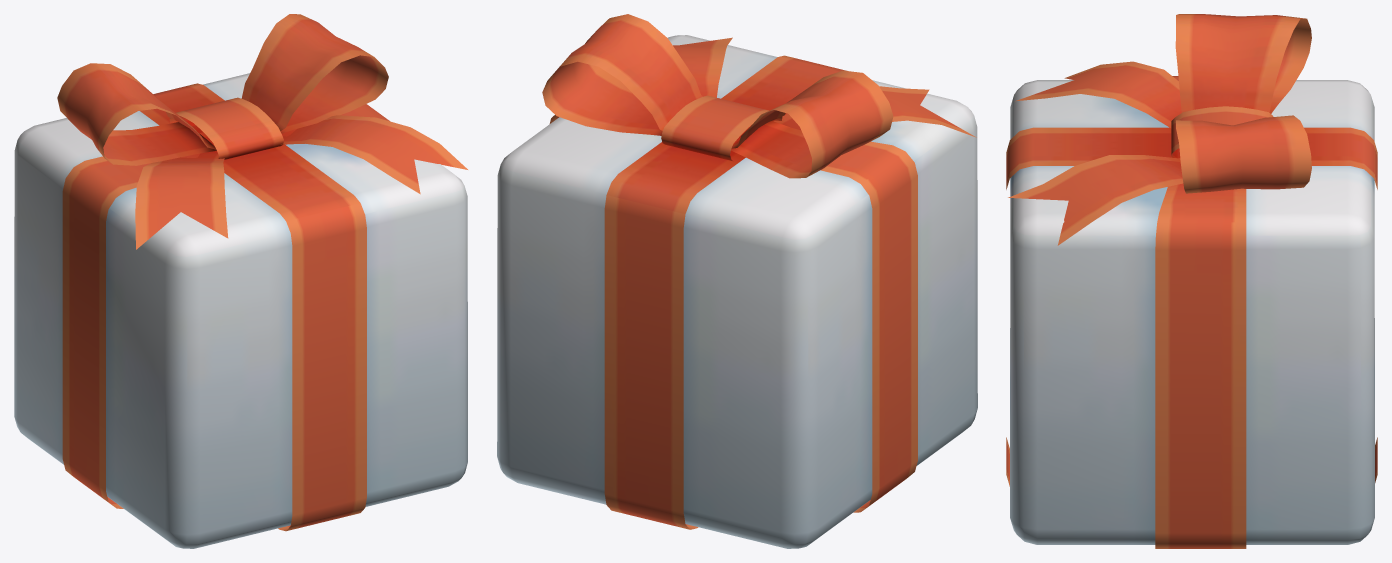
The model's file is GhostPresentBox.glb.
3 renders of one model, left to right at view 1: azimuth 30°, elevation 25°; view 2: azimuth 150°, elevation 25°; view 3: azimuth 270°, elevation 25°, orthographic. The views are drawn at different scales.
Visible parts, largest first — view 1: GhostPresentBox__GhostPresentBoxMat00; view 2: GhostPresentBox__GhostPresentBoxMat00; view 3: GhostPresentBox__GhostPresentBoxMat00.
Part boxes in pixels (x1=…): GhostPresentBox__GhostPresentBoxMat00: x1=14, y1=14, x2=467, y2=548; GhostPresentBox__GhostPresentBoxMat00: x1=497, y1=14, x2=977, y2=548; GhostPresentBox__GhostPresentBoxMat00: x1=1006, y1=14, x2=1377, y2=548.
Bounding box in the file's own units: 92.4 × 105 × 85.52.
1 material, 1 textured.
